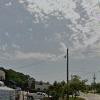Tree: (6, 61, 56, 93)
